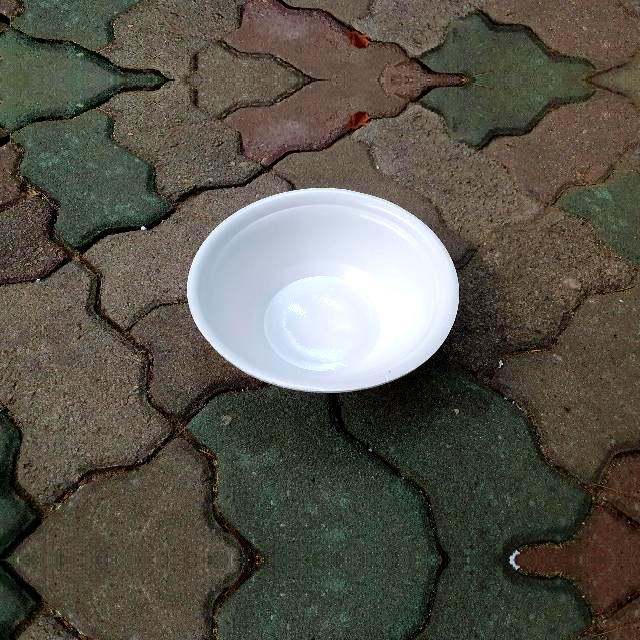Styrofoam: (188, 187, 462, 395), (187, 188, 459, 392)
